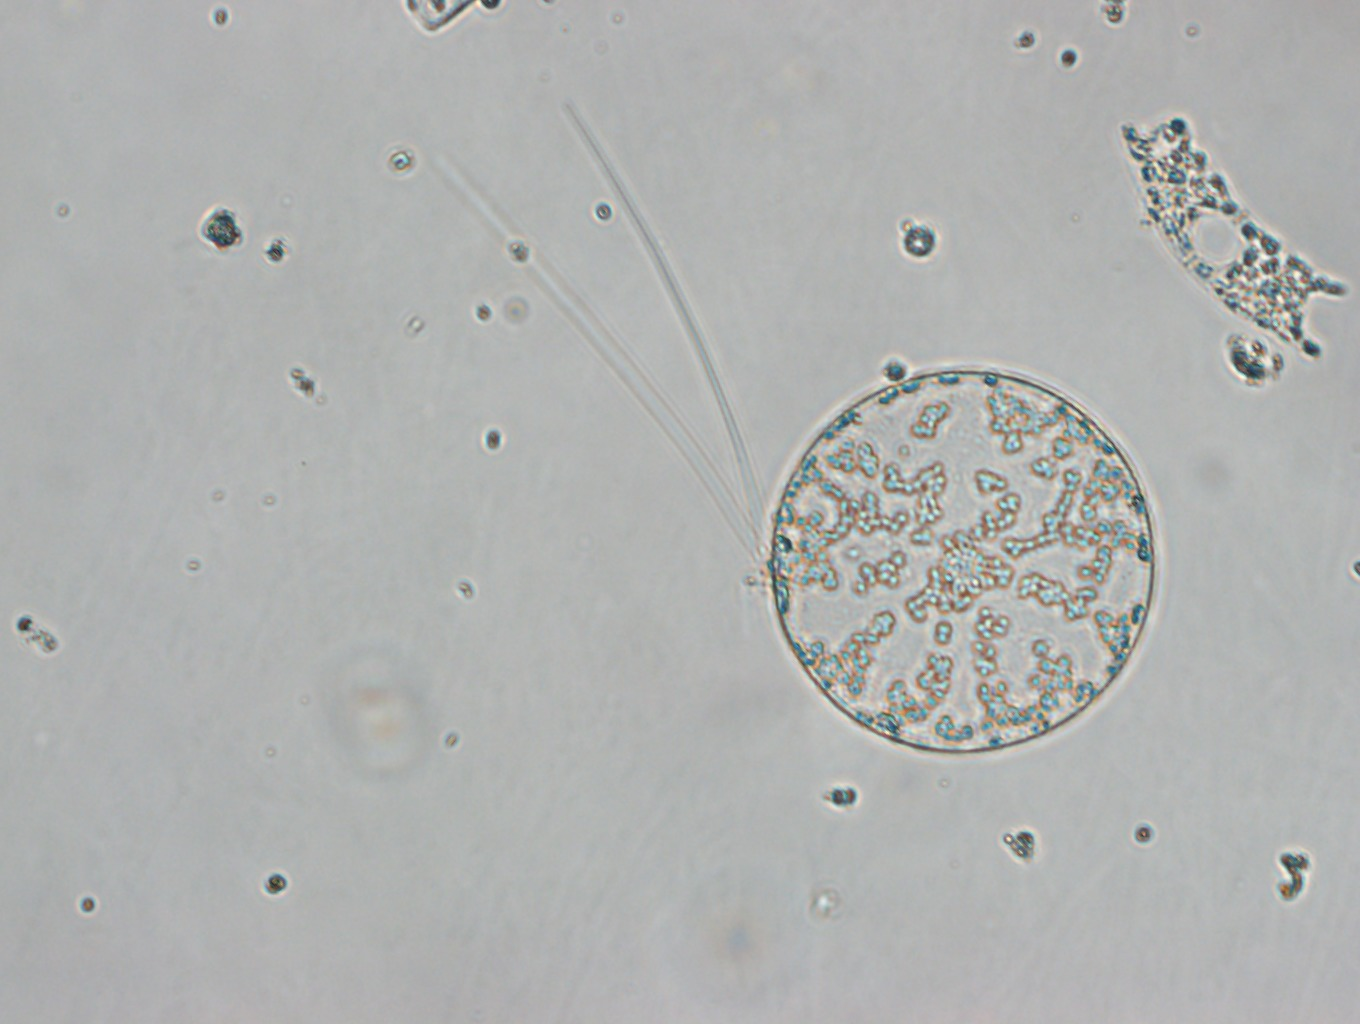coscinodiscus: (764, 362, 1163, 760)
eucampia: (1125, 106, 1359, 354)
